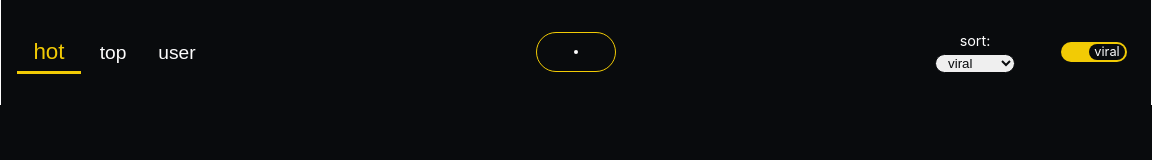
Test: renders a third option when active section is top
Click the button "top" at [113, 53], box [81,41,145,65]
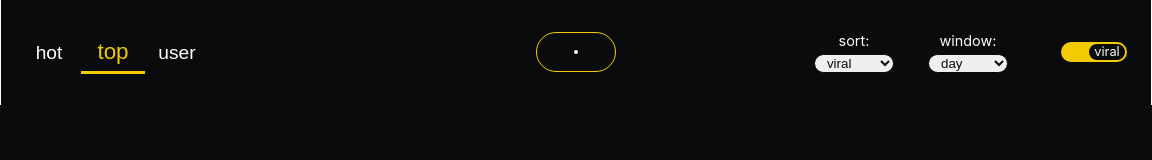
expect the text "window:" is shown: met, box [940,32,996,49]
